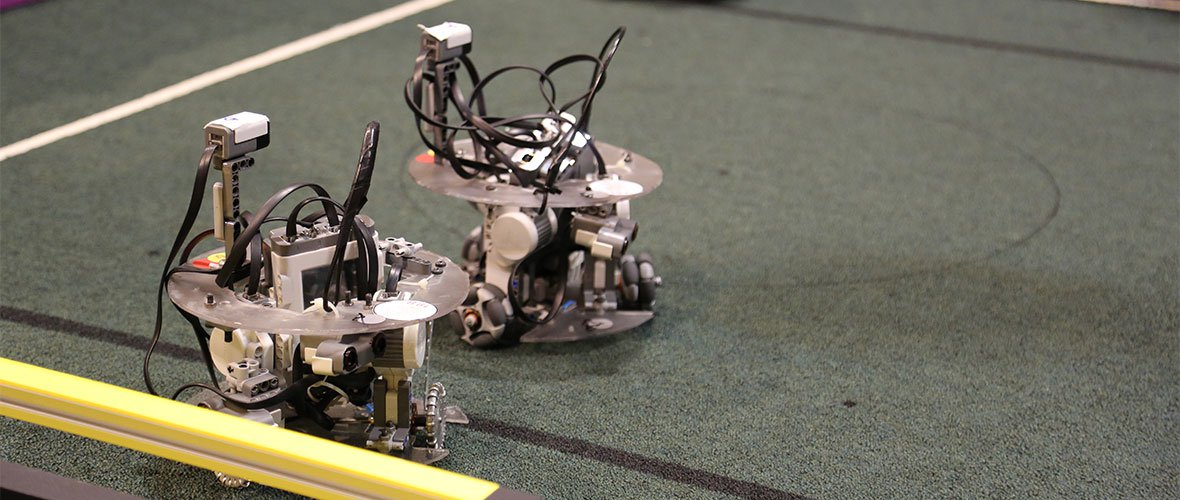Robot: (156, 110, 458, 483), (395, 11, 665, 352)
